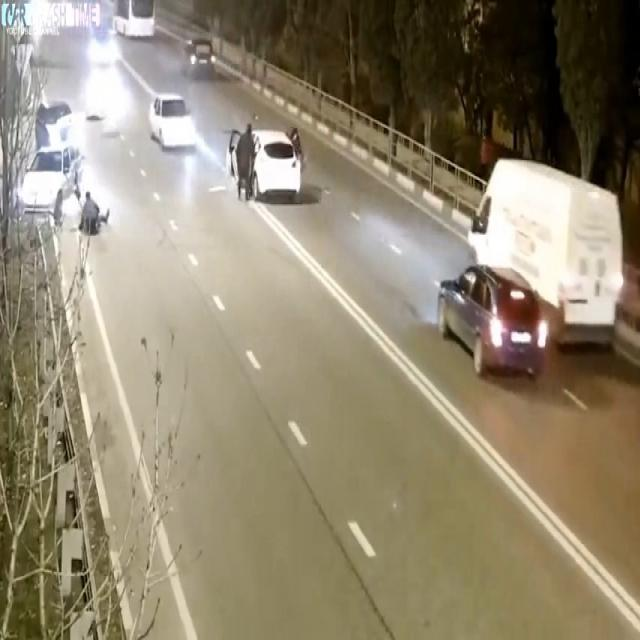Accident: (17, 106, 92, 227)
